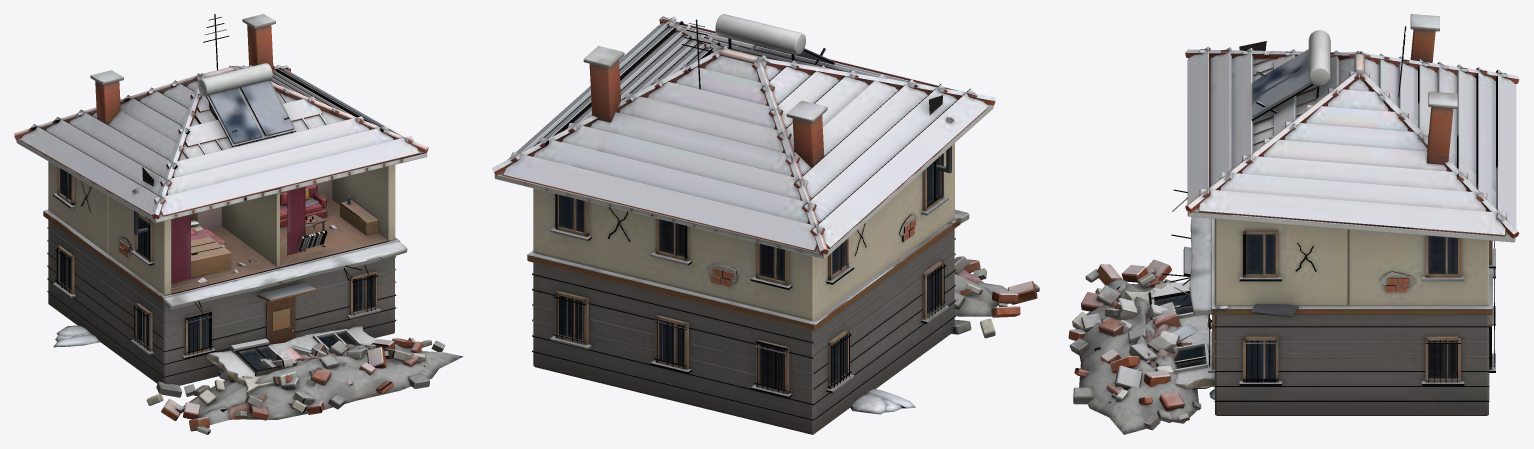
File: bld_house_open.glb
The picture shows the model from 3 angles, left to right: view 1: azimuth 30°, elevation 25°; view 2: azimuth 150°, elevation 25°; view 3: azimuth 270°, elevation 25°; orthographic projection. The views are drawn at different scales.
Parts seen in each view (by area): view 1: bld_house_open; view 2: bld_house_open; view 3: bld_house_open.
Boxes of the visible parts, x1=… form: bld_house_open: x1=14, y1=14, x2=463, y2=434; bld_house_open: x1=492, y1=14, x2=1039, y2=434; bld_house_open: x1=1068, y1=14, x2=1519, y2=434.
Size of the model in its own units: 10.38 by 9.63 by 11.53.
Materials: 1 (1 with a texture image).
